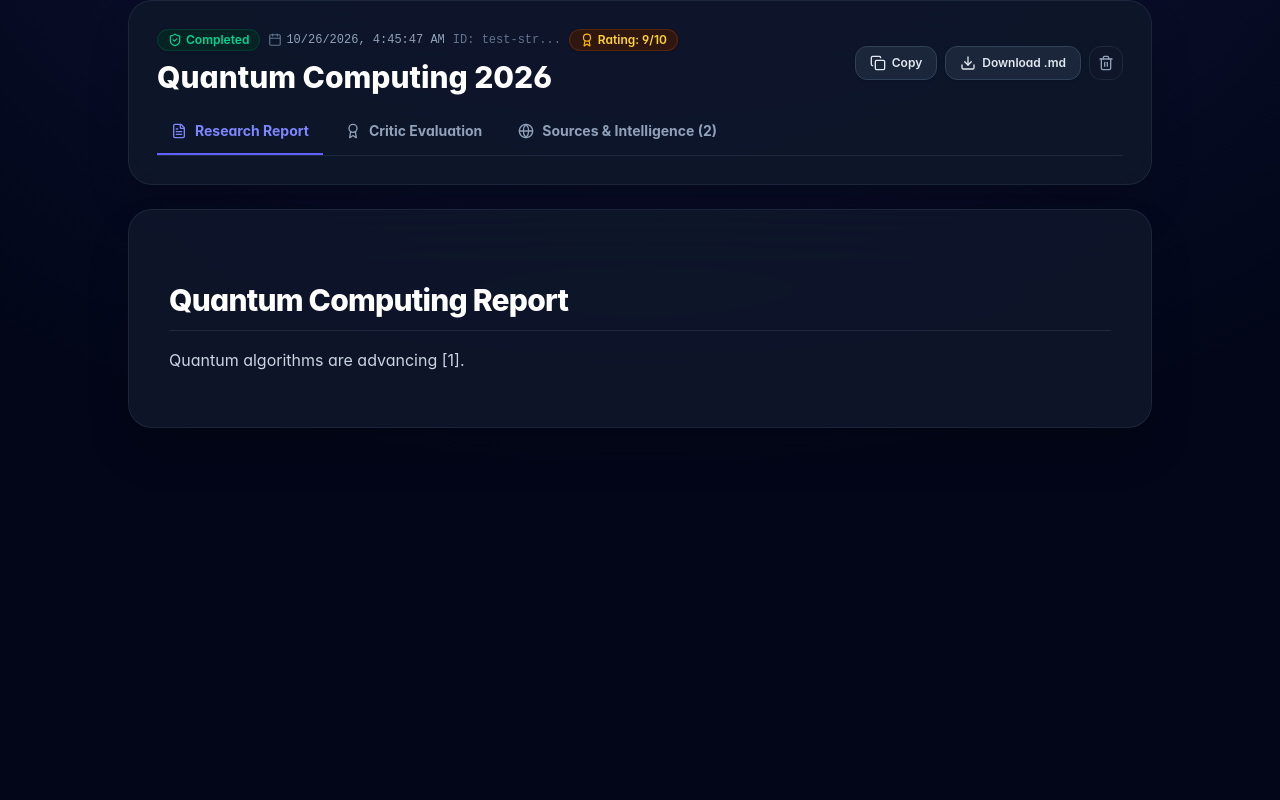
it: Frontend UI Components › ReportViewer renders structured sources with titles and status badges
This screenshot has width=1280, height=800.
Note: Switch to Sources tab
Step 1. Click the button "Sources & Intelligence (2)" → click(618, 138), box 504,120 -> 731,154
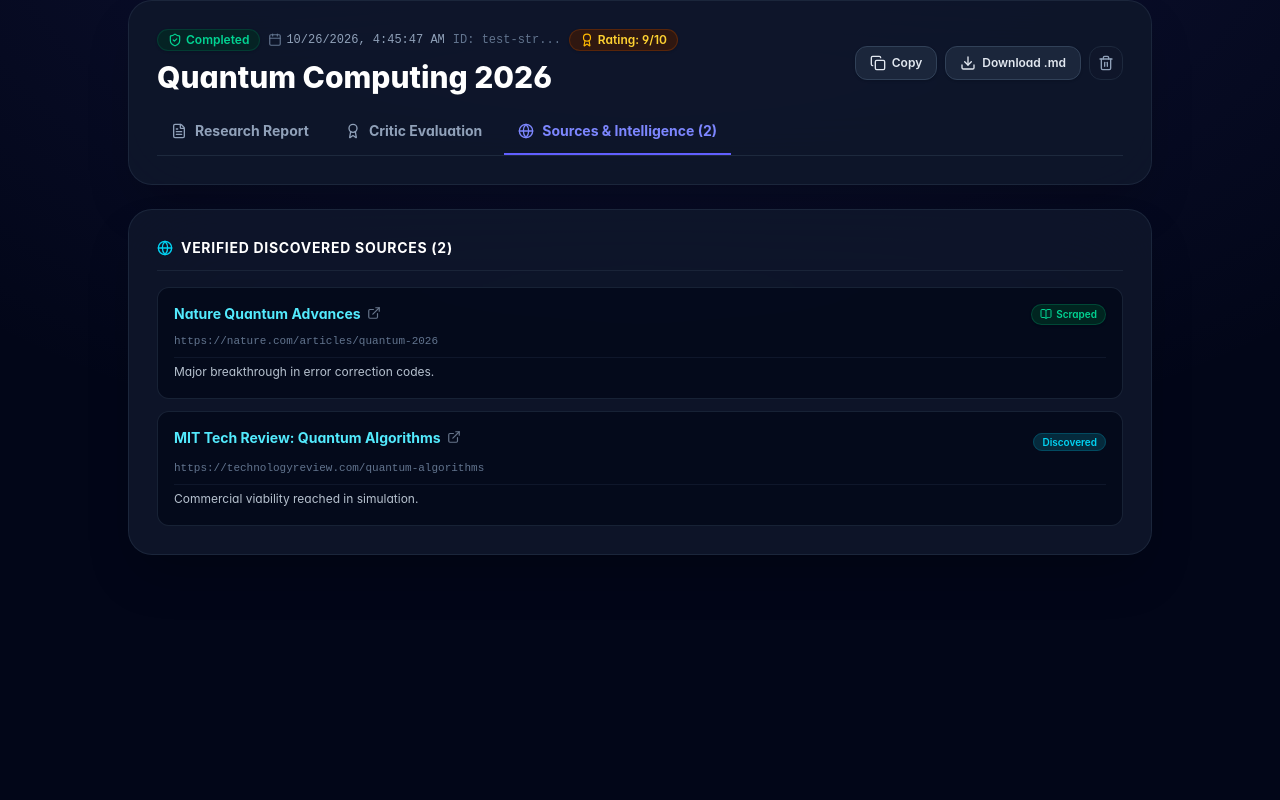
Result: the text "Nature Quantum Advances" is shown at 174,304 -> 361,323
Result: the text "https://nature.com/articles/quantum-2026" is shown at 174,334 -> 438,346
Result: the text "Scraped" is shown at 1031,304 -> 1106,324
